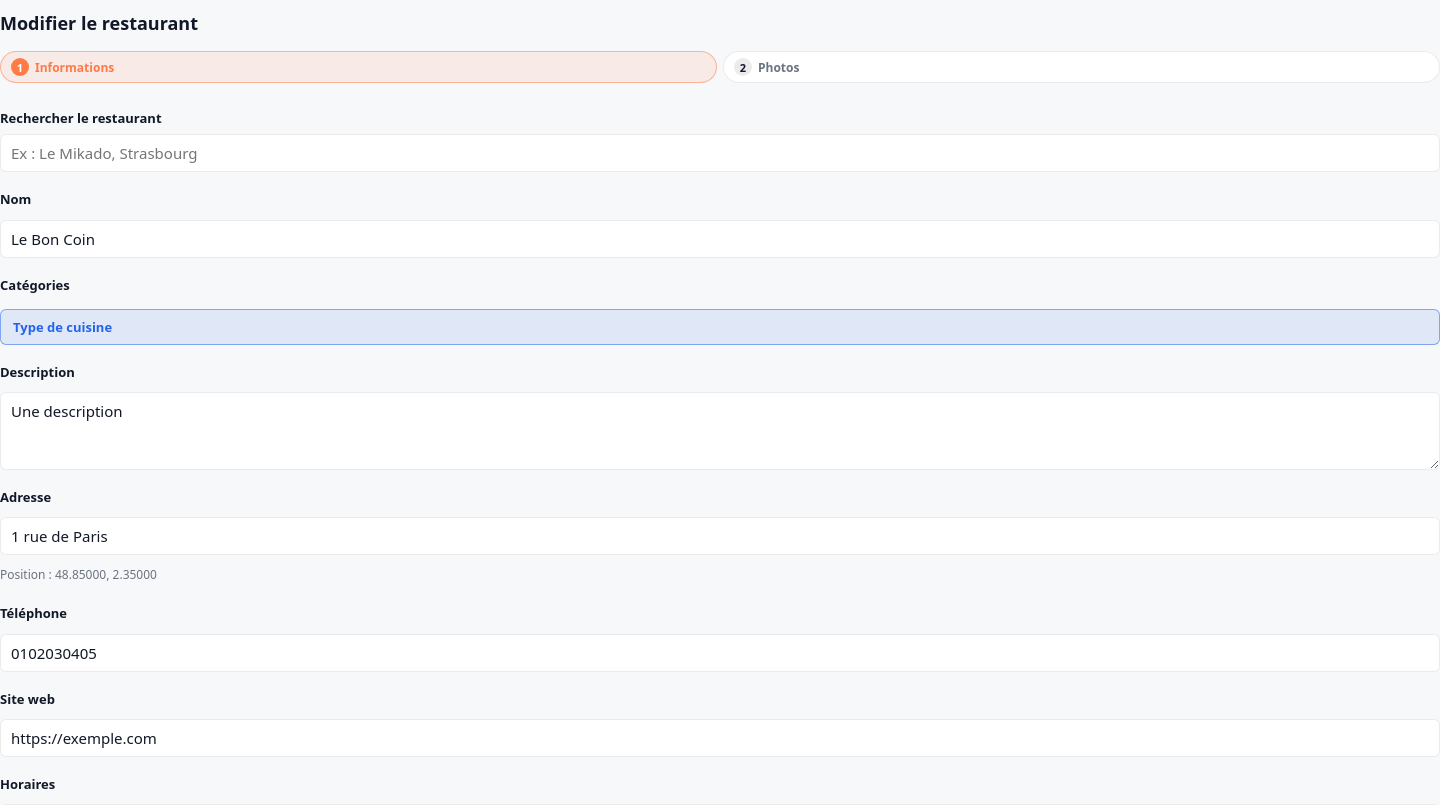
Test: AddRestaurantForm › édition : toutes les étapes sont accessibles immédiatement
Expected: the field labelled "Nom" holds "Le Bon Coin", [0,220,1439,258]
Expected: the field labelled "Téléphone" holds "0102030405", [0,634,1439,672]
Click the tab "2 Photos" at [779, 67], box [723,51,1439,83]
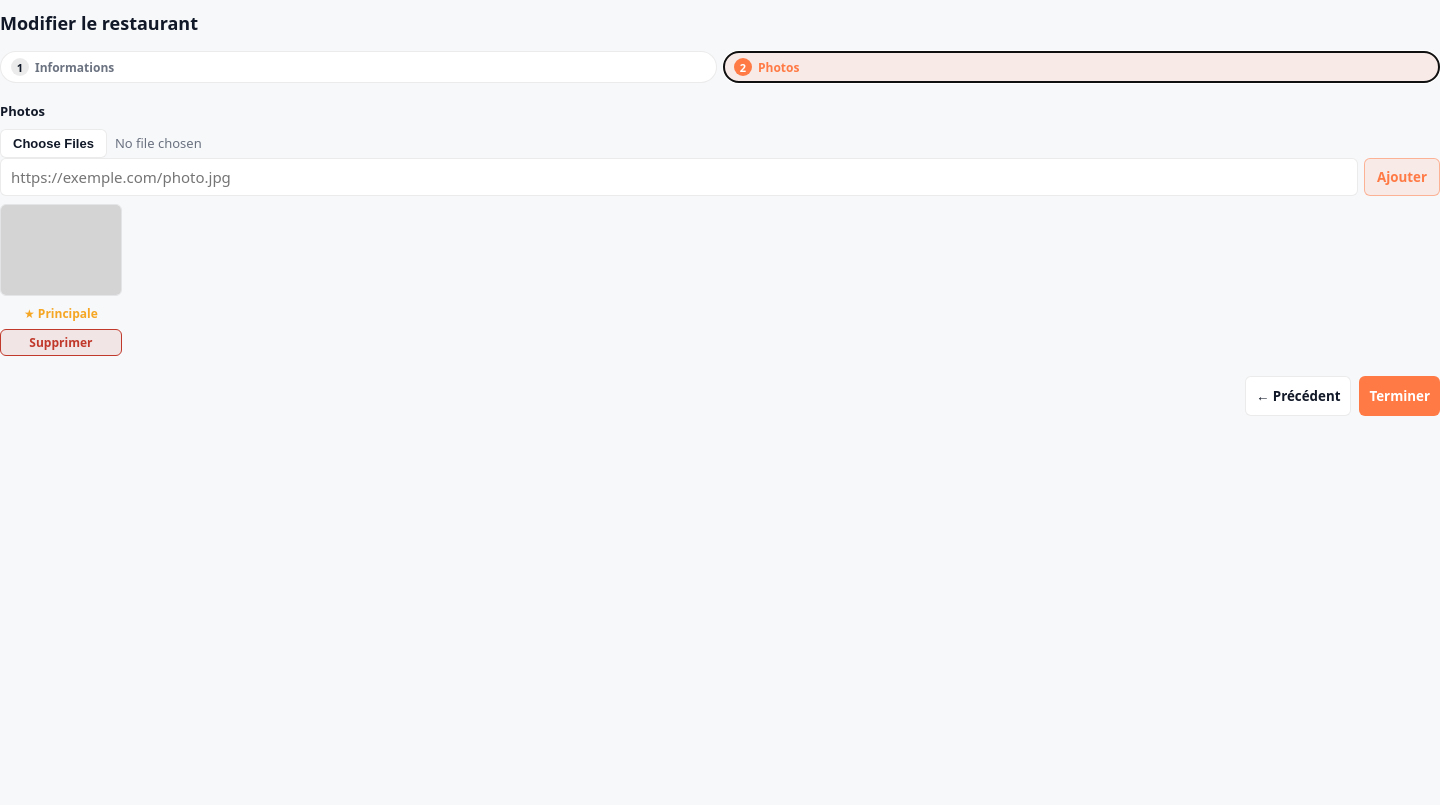
Click the tab "1 Informations" at [75, 67], box [0,51,717,83]
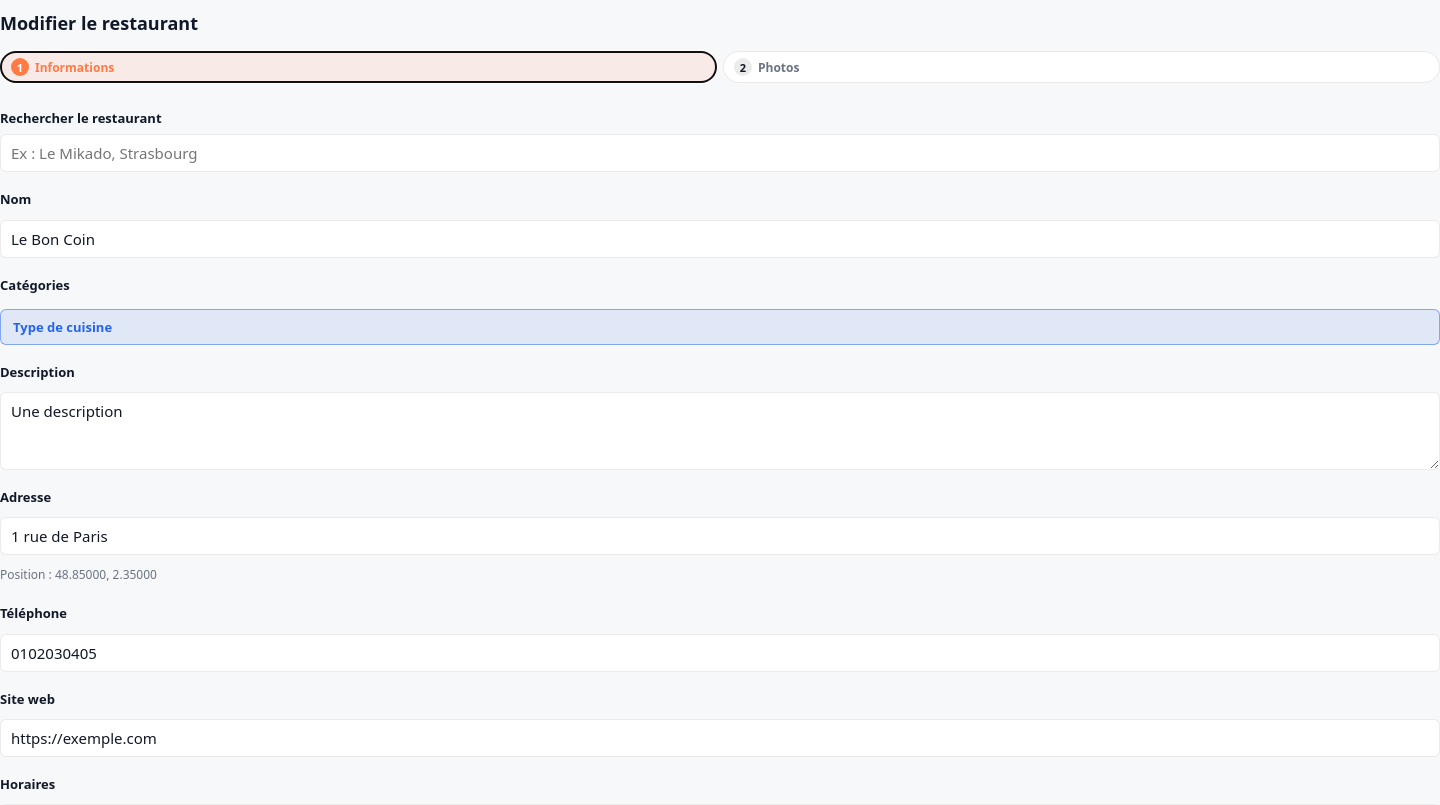
Now the field labelled "Nom" holds "Le Bon Coin", box [0,220,1439,258]
